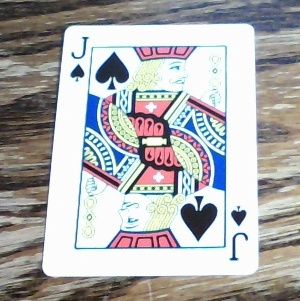card: (42, 24, 257, 277)
